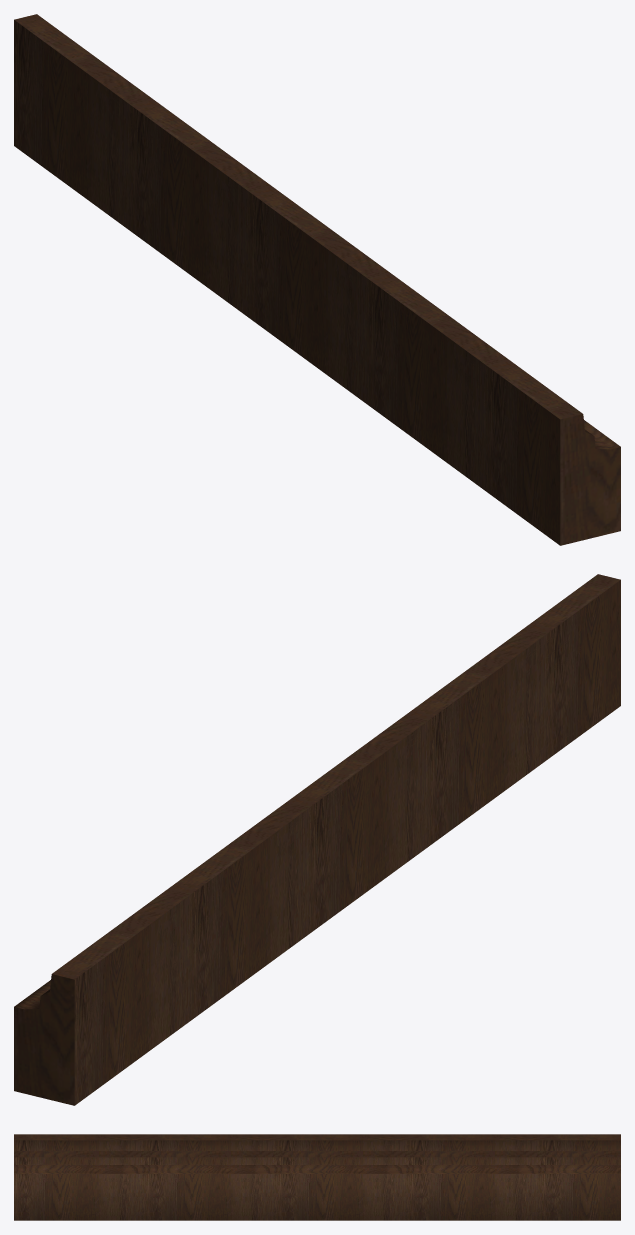
Rendered from souphalftrim004.obj.
3 views of the same model, one above another, from view 1: azimuth 30°, elevation 25°; view 2: azimuth 150°, elevation 25°; view 3: azimuth 270°, elevation 25° (orthographic). The views are drawn at different scales.
Visible parts, largest first — view 1: souphalftrim004_high_1; view 2: souphalftrim004_high_1; view 3: souphalftrim004_high_1.
Part boxes in pixels (x1,y1,x2,y2): souphalftrim004_high_1: (14,14,620,545); souphalftrim004_high_1: (14,574,620,1105); souphalftrim004_high_1: (14,1134,620,1220).
Size of the model in its own units: 0.0861 by 0.1712 by 1.34.
